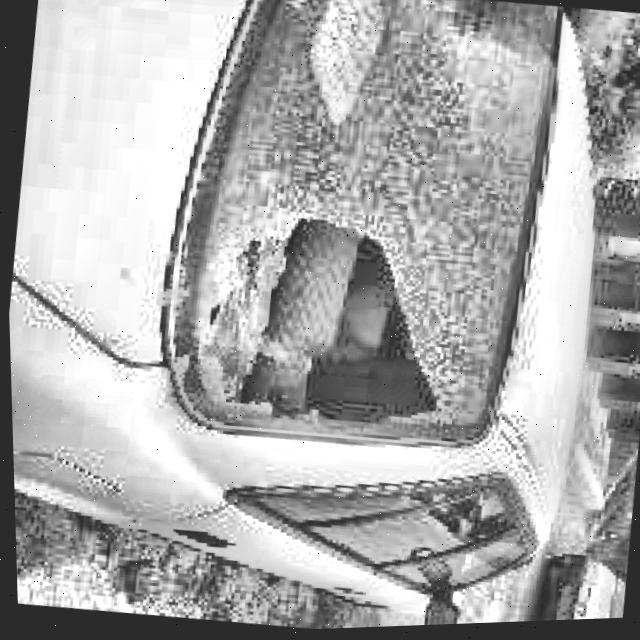glass_shatter: (191, 201, 449, 444)
